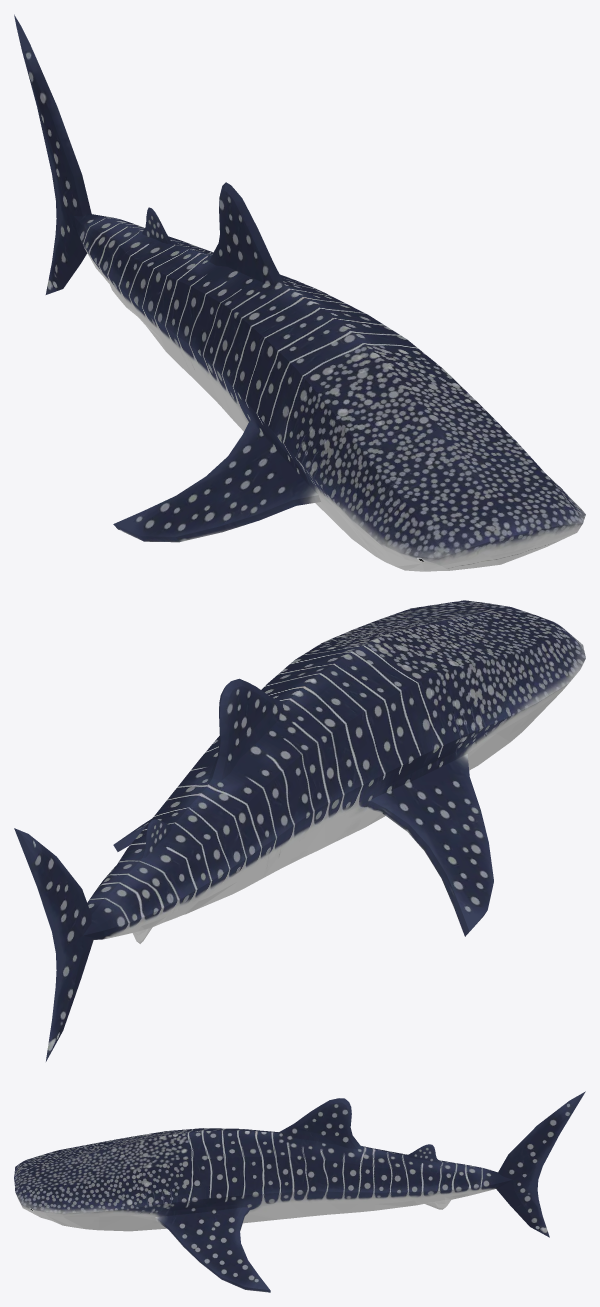
The model's file is tiburon-ballena.glb.
3 views of the same model, one above another, from view 1: azimuth 30°, elevation 25°; view 2: azimuth 150°, elevation 25°; view 3: azimuth 270°, elevation 25° (orthographic). The views are drawn at different scales.
Parts seen in each view (by area): view 1: Plane.016_txt_requin_baleine_0; view 2: Plane.016_txt_requin_baleine_0; view 3: Plane.016_txt_requin_baleine_0.
Part boxes in pixels (x1,y1,x2,y2): Plane.016_txt_requin_baleine_0: (14,14,585,571); Plane.016_txt_requin_baleine_0: (14,600,585,1061); Plane.016_txt_requin_baleine_0: (14,1091,585,1292).
Size of the model in its own units: 3.6 by 2.6 by 8.8.
1 material, 1 textured.
